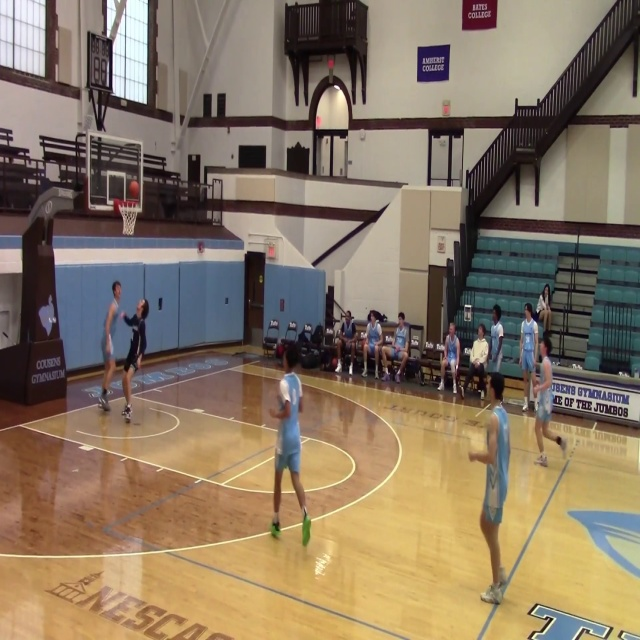Basketball: (128, 180, 140, 197)
